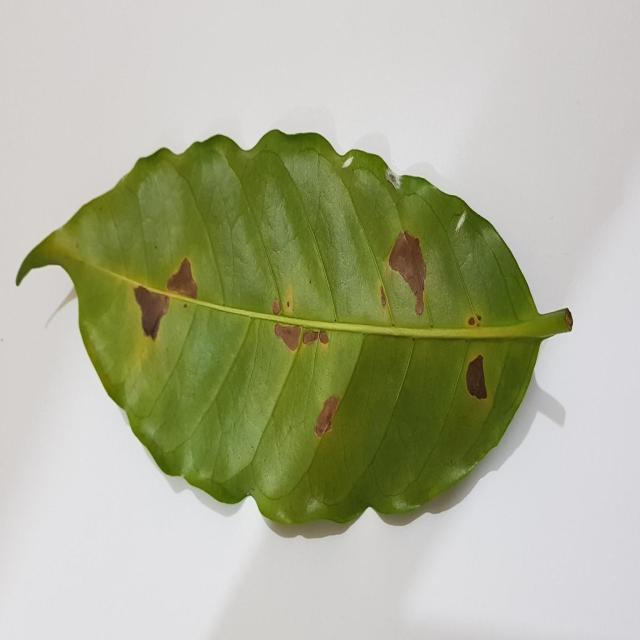miner: (388, 230, 427, 316), (134, 286, 169, 340), (274, 324, 329, 351), (167, 258, 197, 299), (314, 395, 341, 438), (273, 300, 281, 313)
phoma: (466, 353, 488, 401)
